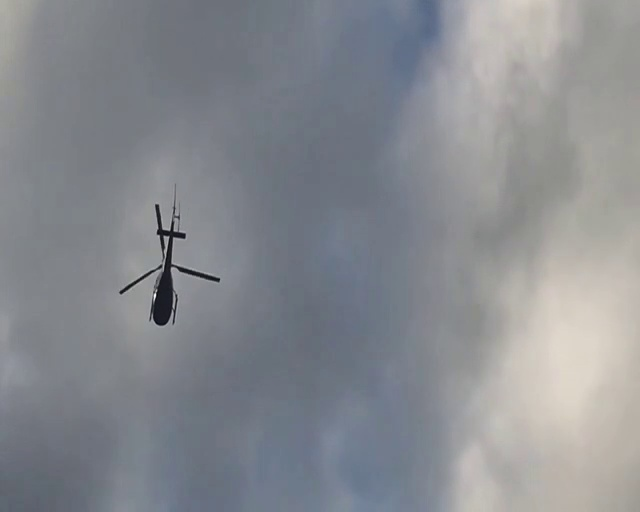HELICOPTER: (118, 184, 222, 327)
